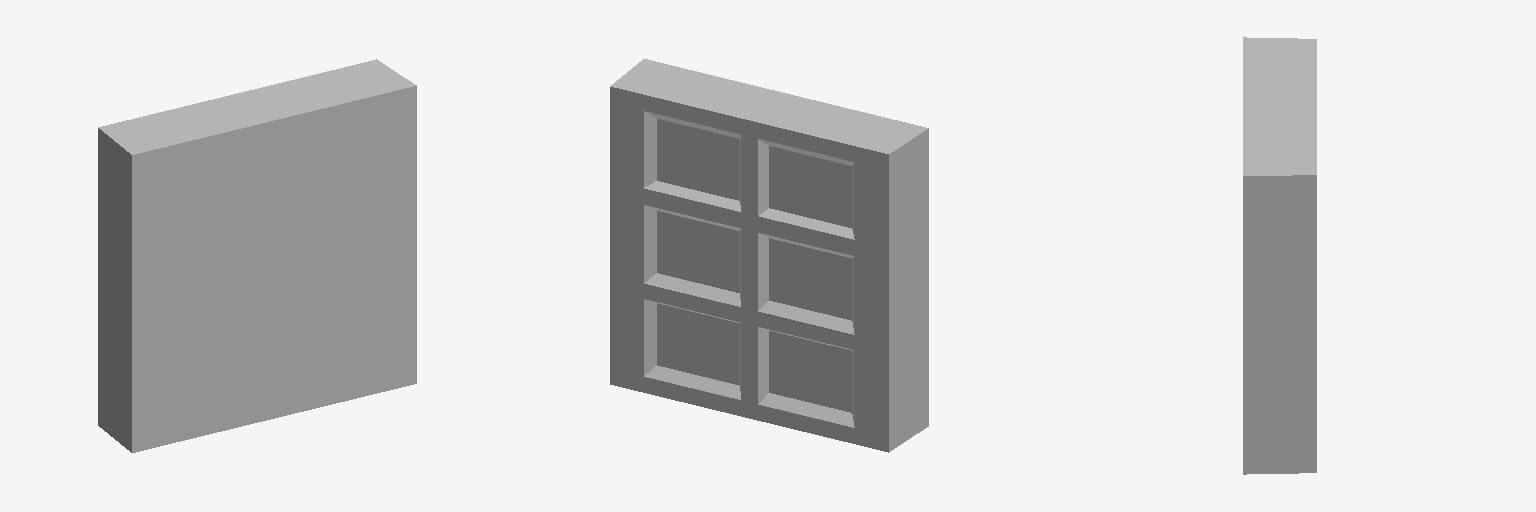
The model's file is Door.obj.
3 views of the same model, side by side, from view 1: azimuth 30°, elevation 25°; view 2: azimuth 150°, elevation 25°; view 3: azimuth 270°, elevation 25° (orthographic).
Visible parts, largest first — view 1: Cube_Cube.004; view 2: Cube_Cube.004; view 3: Cube_Cube.004.
Boxes of the visible parts, box(x1,y1,x2,y2) form: Cube_Cube.004: box(98, 59, 416, 452); Cube_Cube.004: box(610, 59, 928, 452); Cube_Cube.004: box(1243, 37, 1316, 474).
Size of the model in its own units: 9.1 by 9.1 by 2.04.